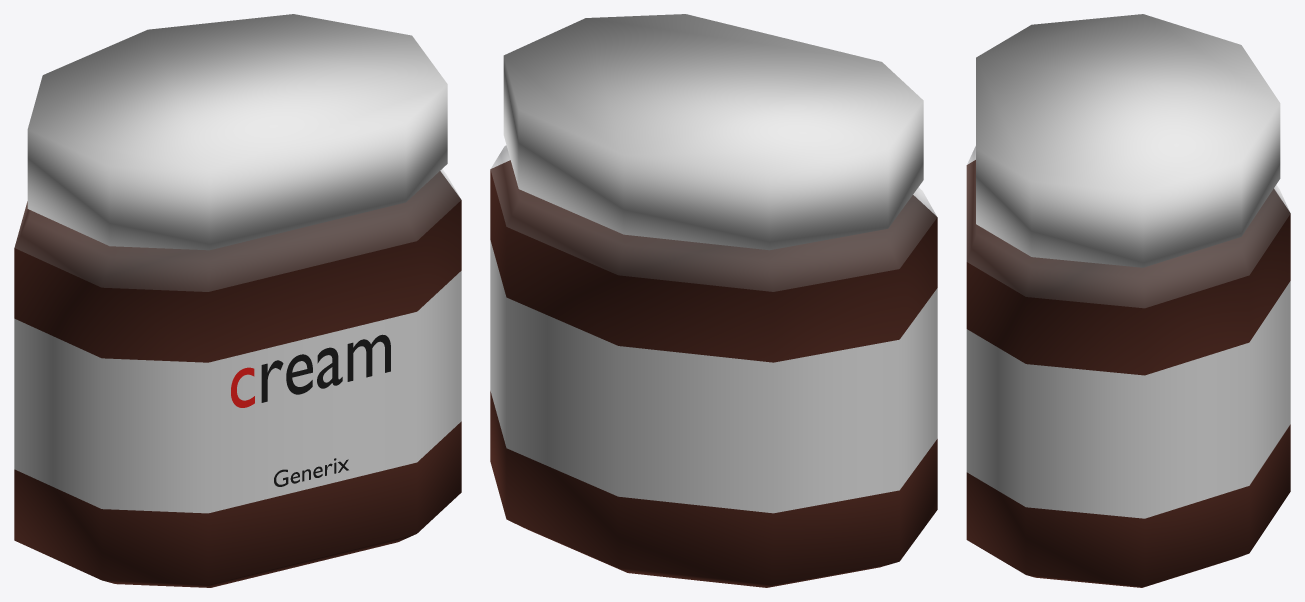
The model's file is Cream.glb.
3 views of the same model, side by side, from view 1: azimuth 30°, elevation 25°; view 2: azimuth 150°, elevation 25°; view 3: azimuth 270°, elevation 25° (orthographic). The views are drawn at different scales.
Visible parts, largest first — view 1: Cream; view 2: Cream; view 3: Cream.
Part boxes in pixels (x1,y1,x2,y2): Cream: (14,14,461,587); Cream: (490,14,937,587); Cream: (966,14,1290,587).
Bounding box in the file's own units: 2.79 × 2.74 × 2.01.
